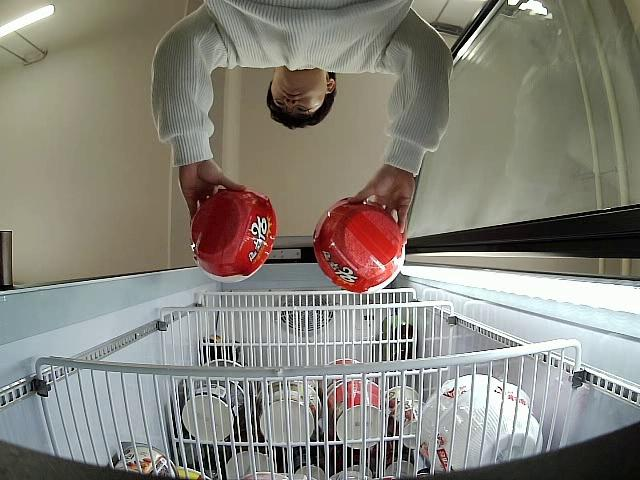00_hand: (347, 172, 415, 235), (179, 162, 245, 221)
10_wangTtukkeong: (313, 195, 407, 294), (191, 189, 274, 283)
